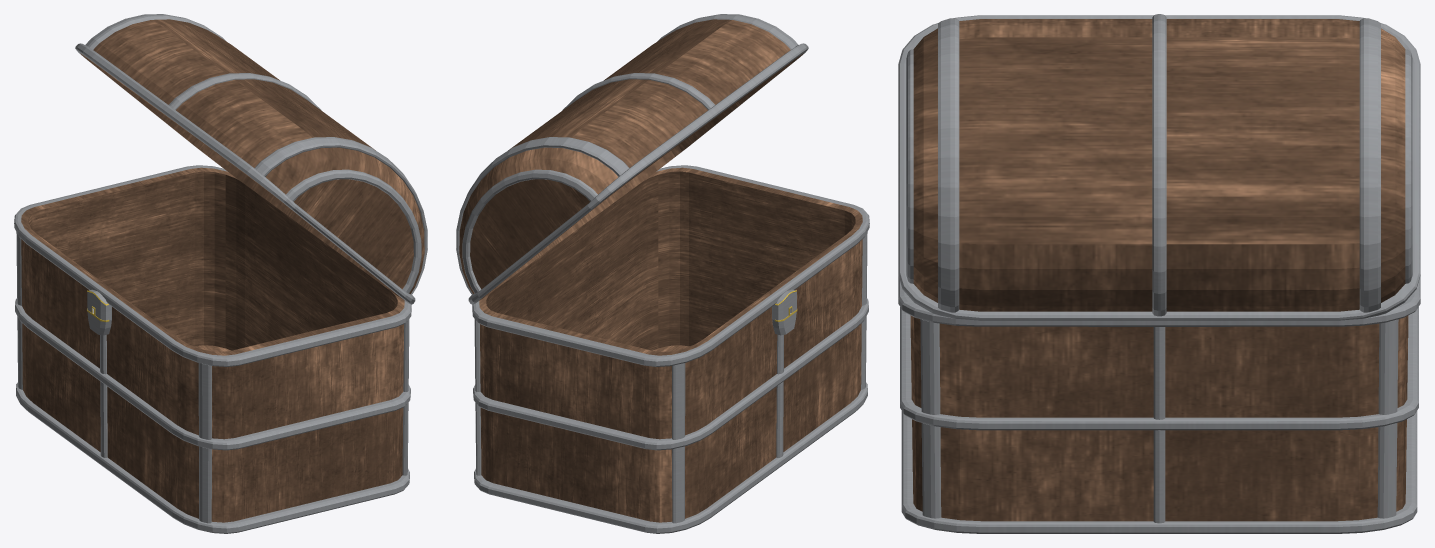
File: cofre_arriba_abierto.obj
3 renders of one model, left to right at view 1: azimuth 30°, elevation 25°; view 2: azimuth 150°, elevation 25°; view 3: azimuth 270°, elevation 25°, orthographic. The views are drawn at different scales.
Parts seen in each view (by area): view 1: Chest1_open; view 2: Chest1_open; view 3: Chest1_open.
Part boxes in pixels (<box>): Chest1_open: <box>14,14,427,533</box>; Chest1_open: <box>456,14,869,533</box>; Chest1_open: <box>898,14,1420,533</box>.
Bounding box in the file's own units: 1.21 × 1.66 × 1.76.
Materials: 4 (3 with a texture image).
